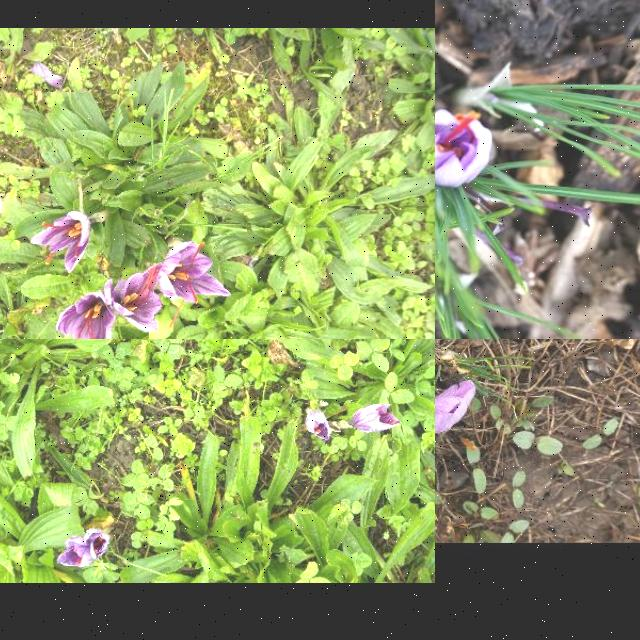flower: (159, 242, 231, 326), (435, 108, 494, 188), (105, 262, 163, 332), (30, 212, 90, 274), (435, 355, 475, 441), (56, 291, 115, 339), (350, 403, 400, 432), (57, 536, 95, 568), (85, 529, 112, 559), (304, 412, 332, 440)
